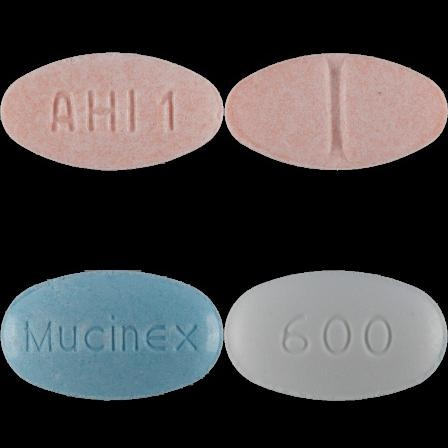69189-0007: (0, 0, 224, 224)
